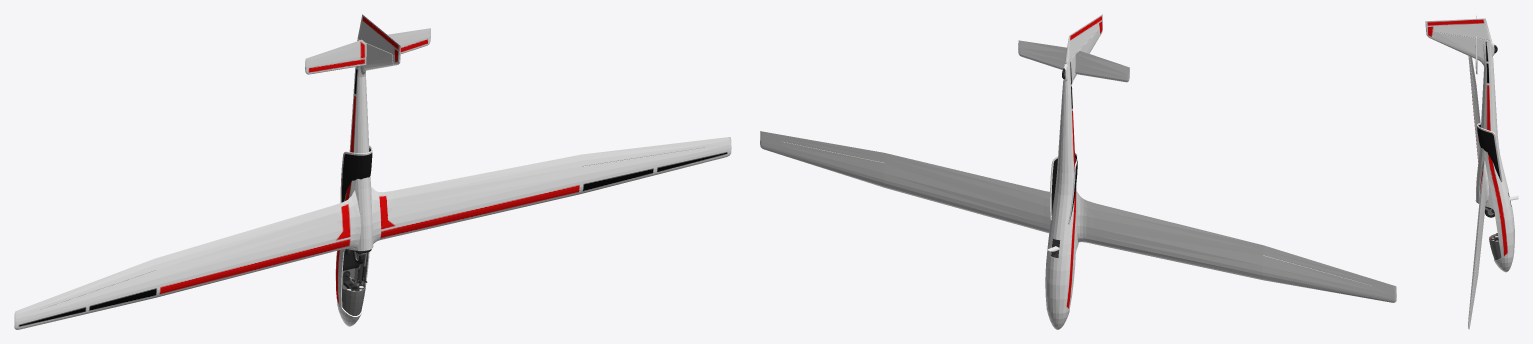
The model's file is glider-eb29r-like.obj.
3 views of the same model, side by side, from view 1: azimuth 30°, elevation 25°; view 2: azimuth 150°, elevation 25°; view 3: azimuth 270°, elevation 25° (orthographic). The views are drawn at different scales.
Visible parts, largest first — view 1: V1_SailplaneGlider_1_Body_Vehicle_Elements_0, V1_SailplaneGlider_1_Body_VehiclesGeneric_0, V1_SailplaneGlider_1_Aileron_L_Vehicle_Elements_0, V1_SailplaneGlider_1_Aileron_R_Vehicle_Elements_0, V1_SailplaneGlider_1_Rudder_Vehicle_Elements_0, V1_SailplaneGlider_1_Door_VehiclesGlass_0; view 2: V1_SailplaneGlider_1_Body_Vehicle_Elements_0, V1_SailplaneGlider_1_Aileron_R_Vehicle_Elements_0, V1_SailplaneGlider_1_Aileron_L_Vehicle_Elements_0, V1_SailplaneGlider_1_Rudder_Vehicle_Elements_0; view 3: V1_SailplaneGlider_1_Body_Vehicle_Elements_0, V1_SailplaneGlider_1_Rudder_Vehicle_Elements_0, V1_SailplaneGlider_1_Door_VehiclesGlass_0, V1_SailplaneGlider_1_Body_VehiclesGeneric_0, V1_SailplaneGlider_1_Door_Vehicle_Elements_0, V1_SailplaneGlider_1_Aileron_L_Vehicle_Elements_0, V1_SailplaneGlider_1_Aileron_R_Vehicle_Elements_0.
Part boxes in pixels (left/top/right/bottom): V1_SailplaneGlider_1_Body_Vehicle_Elements_0: left=14, top=28, right=731, bottom=329; V1_SailplaneGlider_1_Body_VehiclesGeneric_0: left=342, top=249, right=371, bottom=315; V1_SailplaneGlider_1_Aileron_L_Vehicle_Elements_0: left=581, top=140, right=704, bottom=166; V1_SailplaneGlider_1_Aileron_R_Vehicle_Elements_0: left=39, top=258, right=156, bottom=309; V1_SailplaneGlider_1_Rudder_Vehicle_Elements_0: left=357, top=14, right=400, bottom=65; V1_SailplaneGlider_1_Door_VehiclesGlass_0: left=342, top=148, right=372, bottom=202; V1_SailplaneGlider_1_Body_Vehicle_Elements_0: left=760, top=31, right=1396, bottom=329; V1_SailplaneGlider_1_Aileron_R_Vehicle_Elements_0: left=1263, top=245, right=1372, bottom=285; V1_SailplaneGlider_1_Aileron_L_Vehicle_Elements_0: left=782, top=135, right=884, bottom=162; V1_SailplaneGlider_1_Rudder_Vehicle_Elements_0: left=1064, top=14, right=1102, bottom=62; V1_SailplaneGlider_1_Body_Vehicle_Elements_0: left=1435, top=14, right=1514, bottom=329; V1_SailplaneGlider_1_Rudder_Vehicle_Elements_0: left=1425, top=18, right=1491, bottom=40; V1_SailplaneGlider_1_Door_VehiclesGlass_0: left=1477, top=124, right=1500, bottom=180; V1_SailplaneGlider_1_Body_VehiclesGeneric_0: left=1485, top=193, right=1511, bottom=260; V1_SailplaneGlider_1_Door_Vehicle_Elements_0: left=1477, top=123, right=1502, bottom=182; V1_SailplaneGlider_1_Aileron_L_Vehicle_Elements_0: left=1469, top=249, right=1477, bottom=308; V1_SailplaneGlider_1_Aileron_R_Vehicle_Elements_0: left=1470, top=56, right=1476, bottom=92.
Size of the model in its own units: 701 by 300 by 100.
3 materials, 3 textured.
